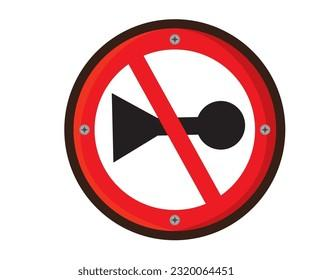Horn Prohibited: (50, 3, 312, 257)
